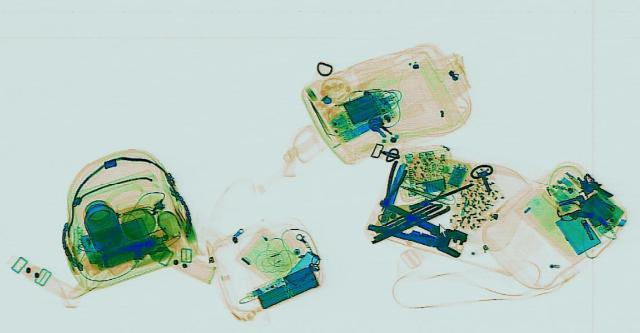Pliers: (354, 202, 484, 259)
